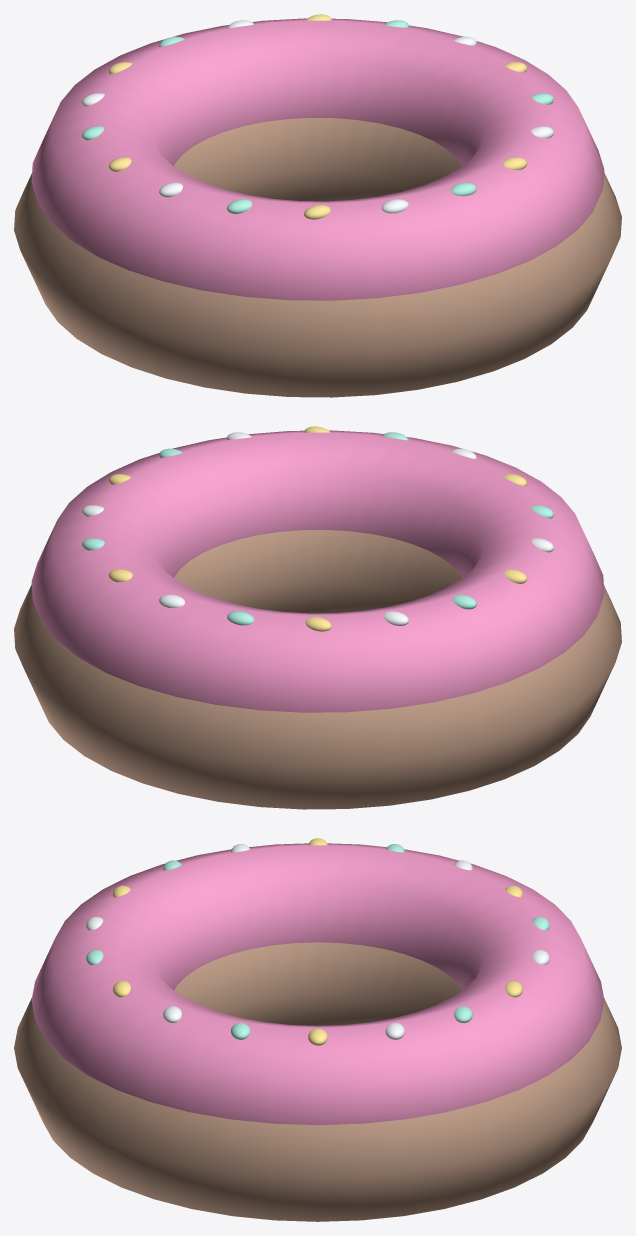
The model's file is st_candy_donut.glb.
3 renders of one model, top to bottom at view 1: azimuth 30°, elevation 25°; view 2: azimuth 150°, elevation 25°; view 3: azimuth 270°, elevation 25°, orthographic.
Visible parts, largest first — view 1: Doughnut_Island; view 2: Doughnut_Island; view 3: Doughnut_Island.
Boxes of the visible parts, left/top/right/bottom form: Doughnut_Island: left=14, top=14, right=621, bottom=397; Doughnut_Island: left=14, top=426, right=621, bottom=809; Doughnut_Island: left=14, top=838, right=621, bottom=1221.
Size of the model in its own units: 2.08 by 0.723 by 2.08.
